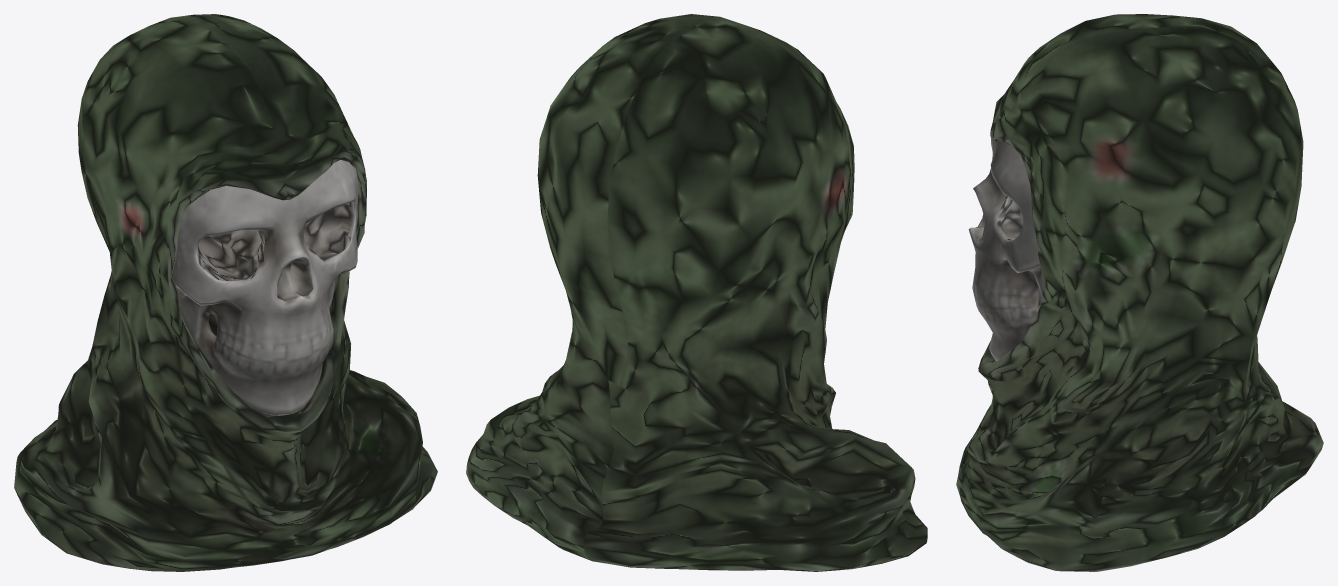
Rendered from skeleton-head-bust---skull-with-fabric-e229ba.glb.
3 renders of one model, left to right at view 1: azimuth 30°, elevation 25°; view 2: azimuth 150°, elevation 25°; view 3: azimuth 270°, elevation 25°, orthographic. The views are drawn at different scales.
Visible parts, largest first — view 1: PropMesh; view 2: PropMesh; view 3: PropMesh.
Boxes of the visible parts, <box> form: PropMesh: <box>14,14,437,571</box>; PropMesh: <box>466,14,927,571</box>; PropMesh: <box>956,14,1323,571</box>.
Bounding box in the file's own units: 0.2403 × 0.28 × 0.2011.
Materials: 2 (2 with a texture image).
